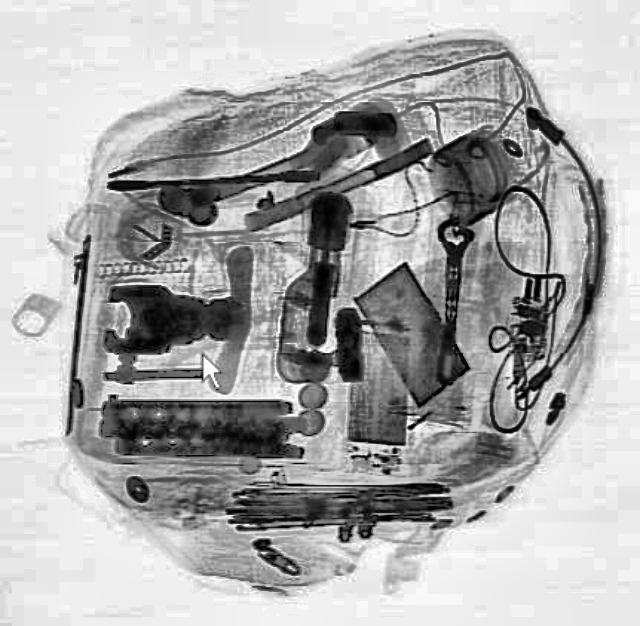Wrench: (422, 214, 474, 386)
